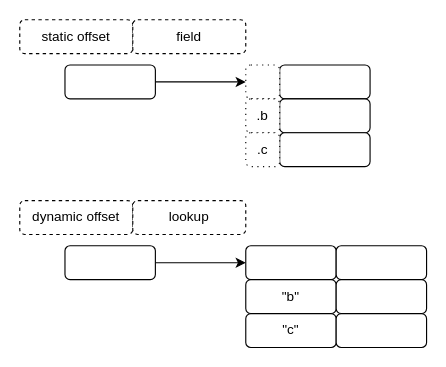
The diagram is 446 pixels wide and 367 high, and some of its shapes have lost their labels. The shapes that lost their labels are listed below. From the top down, each one's centre as x and y in pixels, then its label:
point (262, 81): .a
point (290, 262): "a"
